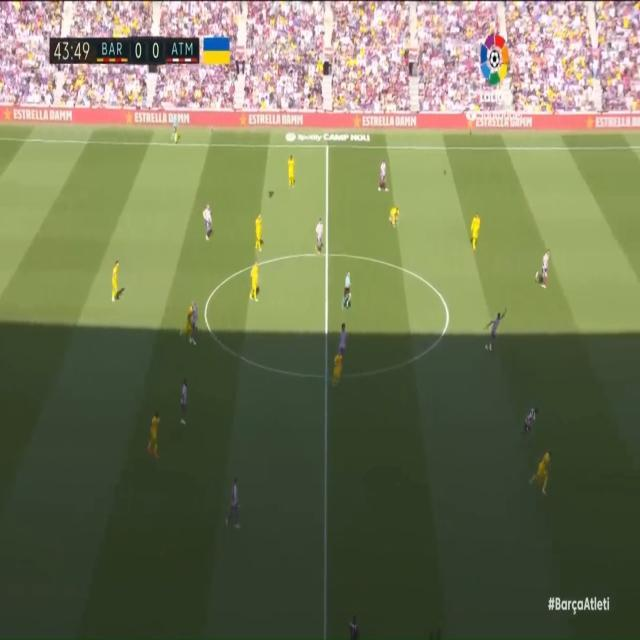ball: (191, 335, 198, 347)
player: (527, 443, 554, 496), (235, 473, 257, 537), (485, 303, 507, 359), (520, 393, 540, 454), (532, 240, 552, 293), (186, 292, 206, 342), (340, 321, 357, 374), (145, 407, 161, 461), (107, 256, 122, 307), (177, 308, 194, 351), (179, 378, 194, 425), (330, 348, 345, 391), (247, 257, 260, 305), (252, 208, 265, 254), (469, 207, 482, 253), (200, 200, 213, 243), (377, 154, 388, 195), (314, 217, 326, 254), (388, 198, 400, 233), (285, 151, 296, 189)
referee: (340, 266, 356, 312), (170, 110, 180, 147)
